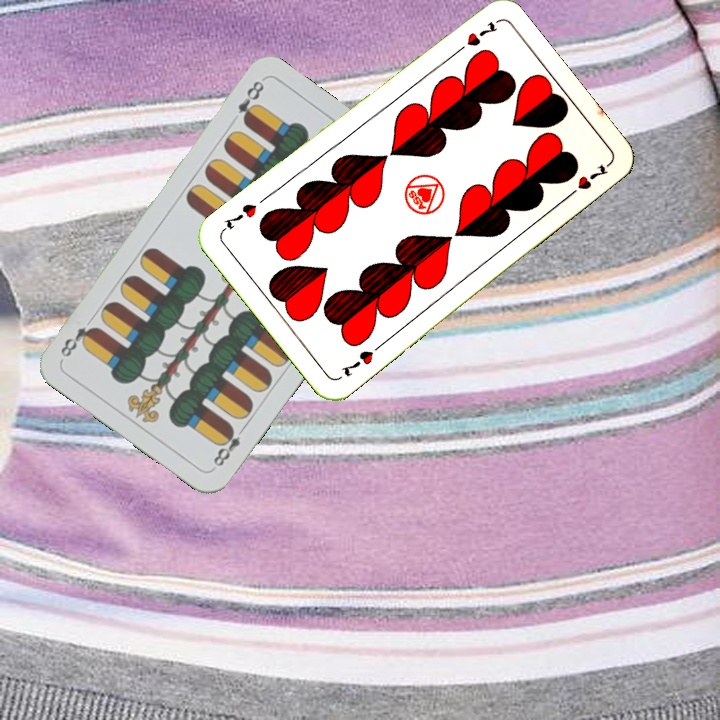E8: (209, 421, 249, 469), (233, 76, 267, 127)
H7: (449, 17, 498, 58), (337, 339, 385, 380)
